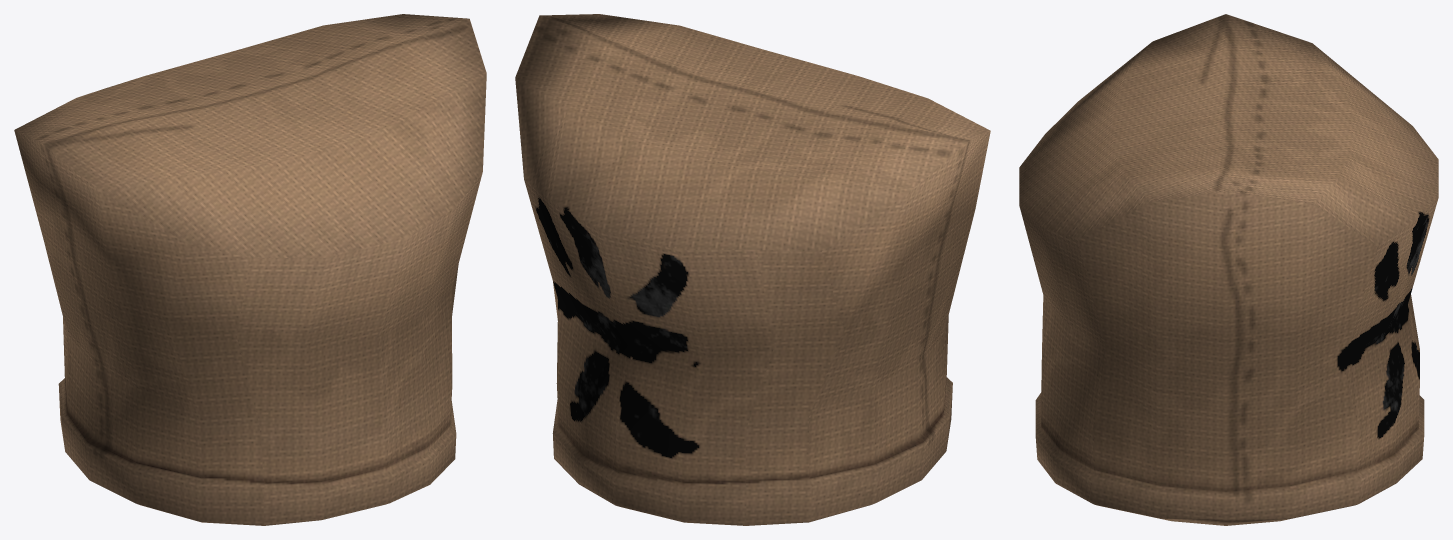
The model's file is IG_FackMask_Xing.fbx.
3 views of the same model, side by side, from view 1: azimuth 30°, elevation 25°; view 2: azimuth 150°, elevation 25°; view 3: azimuth 270°, elevation 25° (orthographic). The views are drawn at different scales.
Parts seen in each view (by area): view 1: XingModel; view 2: XingModel; view 3: XingModel.
Boxes of the visible parts, box(x1,y1,x2,y2) form: XingModel: box(14, 14, 486, 525); XingModel: box(515, 14, 990, 525); XingModel: box(1019, 14, 1438, 525).
Bounding box in the file's own units: 0.7321 × 0.6229 × 0.655.
